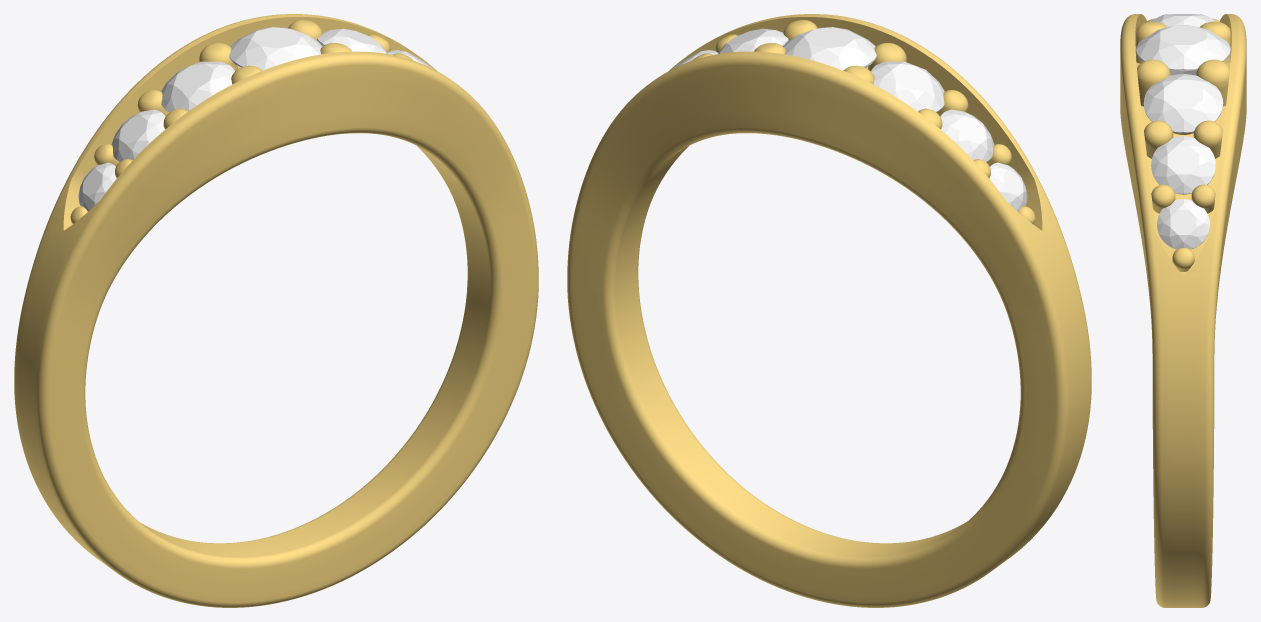
File: Mathijas_webgi.glb
3 renders of one model, left to right at view 1: azimuth 30°, elevation 25°; view 2: azimuth 150°, elevation 25°; view 3: azimuth 270°, elevation 25°, orthographic.
Visible parts, largest first — view 1: MDH_YG_for_3d_model, MDH_dia_for_3d_model006, MDH_dia_for_3d_model003, MDH_dia_for_3d_model002, MDH_dia_for_3d_model001, MDH_dia_for_3d_model005; view 2: MDH_YG_for_3d_model, MDH_dia_for_3d_model006, MDH_dia_for_3d_model003, MDH_dia_for_3d_model002, MDH_dia_for_3d_model001, MDH_dia_for_3d_model005; view 3: MDH_YG_for_3d_model, MDH_dia_for_3d_model005, MDH_dia_for_3d_model006, MDH_dia_for_3d_model, MDH_dia_for_3d_model004, MDH_dia_for_3d_model003.
Part boxes in pixels (x1,y1,x2,y2): MDH_YG_for_3d_model: (14,14,538,607); MDH_dia_for_3d_model006: (229,27,322,70); MDH_dia_for_3d_model003: (161,61,234,112); MDH_dia_for_3d_model002: (111,109,165,161); MDH_dia_for_3d_model001: (78,162,116,211); MDH_dia_for_3d_model005: (317,28,387,53); MDH_YG_for_3d_model: (567,14,1091,607); MDH_dia_for_3d_model006: (783,27,876,70); MDH_dia_for_3d_model003: (871,61,944,112); MDH_dia_for_3d_model002: (940,109,994,161); MDH_dia_for_3d_model001: (989,162,1027,211); MDH_dia_for_3d_model005: (718,28,788,53); MDH_YG_for_3d_model: (1120,14,1246,607); MDH_dia_for_3d_model005: (1143,73,1223,133); MDH_dia_for_3d_model006: (1136,25,1230,75); MDH_dia_for_3d_model: (1151,136,1215,194); MDH_dia_for_3d_model004: (1157,199,1209,249); MDH_dia_for_3d_model003: (1151,14,1215,27).
Size of the model in its own units: 2.71 by 2.88 by 0.6044.
